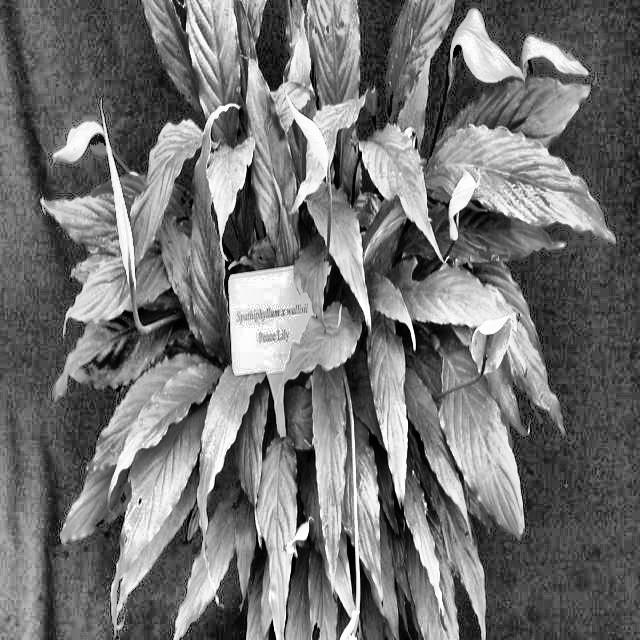plants: (54, 0, 597, 639), (307, 186, 379, 345), (172, 490, 246, 634), (468, 308, 522, 382)
